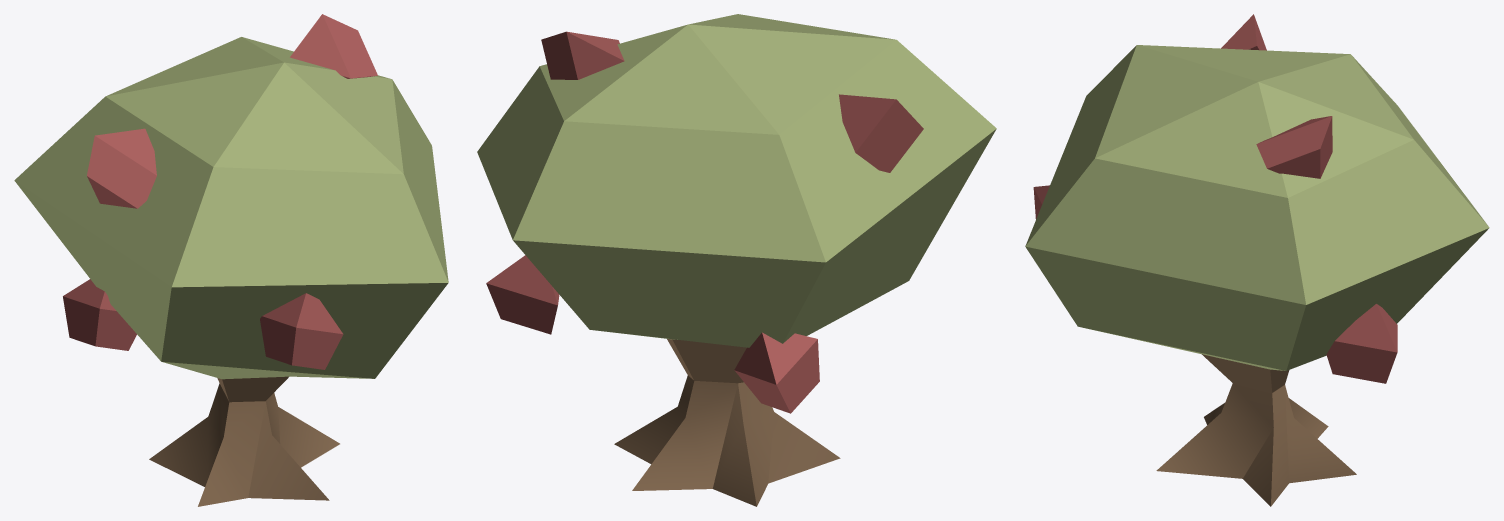
Rendered from berrybush2.fbx.
3 views of the same model, side by side, from view 1: azimuth 30°, elevation 25°; view 2: azimuth 150°, elevation 25°; view 3: azimuth 270°, elevation 25° (orthographic). The views are drawn at different scales.
Visible parts, largest first — view 1: berry_bush2, berries2; view 2: berry_bush2, berries2; view 3: berry_bush2, berries2.
Part boxes in pixels (x1,y1,x2,y2): berry_bush2: (14, 37, 448, 506); berries2: (63, 14, 377, 369); berry_bush2: (477, 14, 996, 506); berries2: (486, 31, 923, 413); berry_bush2: (1025, 45, 1489, 506); berries2: (1033, 14, 1397, 383).
Size of the model in its own units: 5.67 by 5.85 by 6.09.
